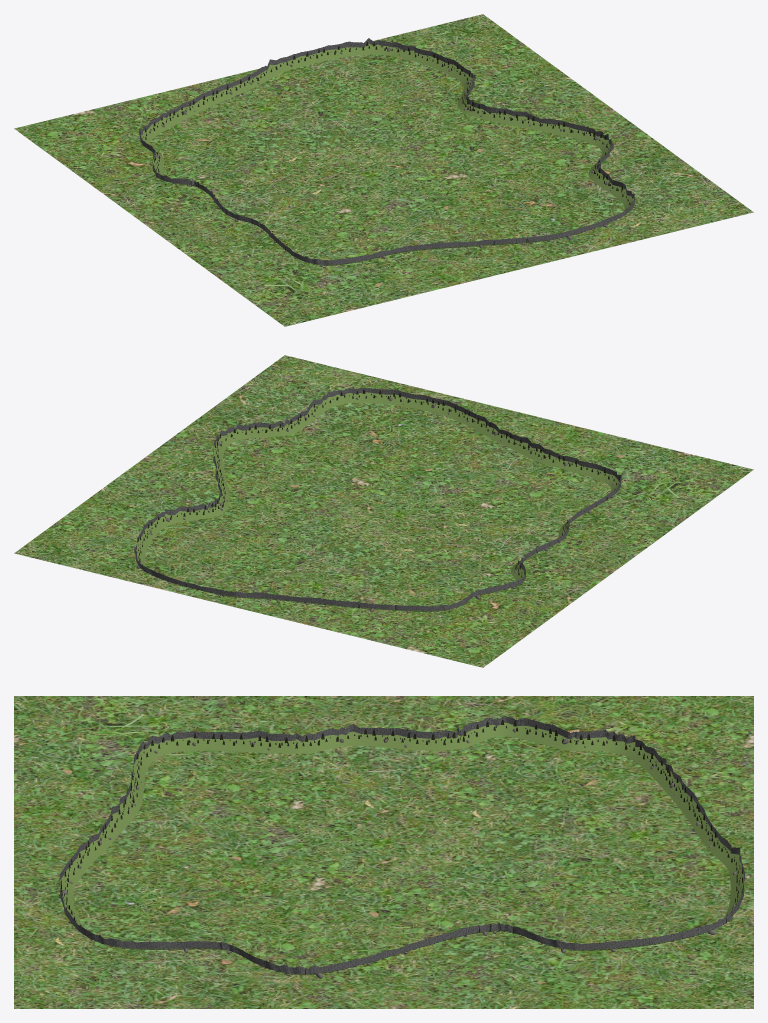
The picture shows the model from 3 angles, top to bottom: view 1: azimuth 30°, elevation 25°; view 2: azimuth 150°, elevation 25°; view 3: azimuth 270°, elevation 25°; orthographic projection. The views are drawn at different scales.
Visible parts, largest first — view 1: Plane, Wall_08, Wall_00, Wall_07, Wall_09, Wall_01, Wall_06, Wall_03, Wall_02, Wall_04, Wall_05; view 2: Plane, Wall_02, Wall_01, Wall_03, Wall_09, Wall_04, Wall_07, Wall_06, Wall_08, Wall_00, Wall_05; view 3: Plane, Wall_06, Wall_05, Wall_04, Wall_07, Wall_03, Wall_09, Wall_01, Wall_00, Wall_02, Wall_08.
Boxes of the visible parts, box(x1,y1,x2,y2) form: Plane: box(14, 14, 753, 326); Wall_08: box(266, 38, 414, 77); Wall_00: box(466, 101, 603, 145); Wall_07: box(167, 66, 273, 124); Wall_09: box(409, 47, 475, 113); Wall_01: box(588, 134, 633, 204); Wall_06: box(139, 112, 175, 183); Wall_03: box(374, 238, 516, 258); Wall_02: box(516, 193, 634, 243); Wall_04: box(259, 222, 375, 265); Wall_05: box(173, 178, 259, 226); Plane: box(14, 355, 753, 667); Wall_02: box(327, 388, 476, 426); Wall_01: box(218, 395, 333, 446); Wall_03: box(469, 415, 577, 471); Wall_09: box(135, 498, 226, 557); Wall_04: box(565, 459, 621, 523); Wall_07: box(247, 592, 395, 610); Wall_06: box(395, 570, 525, 611); Wall_08: box(134, 547, 247, 598); Wall_00: box(213, 435, 229, 509); Wall_05: box(511, 515, 574, 579); Plane: box(14, 696, 753, 1008); Wall_06: box(478, 716, 666, 778); Wall_05: box(295, 722, 486, 753); Wall_04: box(131, 730, 295, 784); Wall_07: box(654, 764, 731, 860); Wall_03: box(76, 775, 144, 867); Wall_09: box(488, 922, 681, 951); Wall_01: box(121, 941, 310, 975); Wall_00: box(309, 924, 489, 975); Wall_02: box(59, 853, 124, 948); Wall_08: box(679, 846, 744, 939).
Size of the model in its own units: 1400 by 35.88 by 1400.
